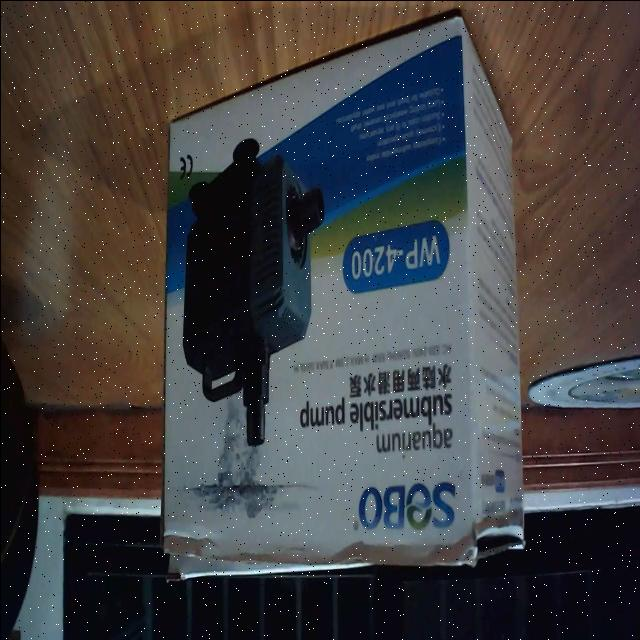SOBO_WP_4200: (155, 15, 527, 576)
